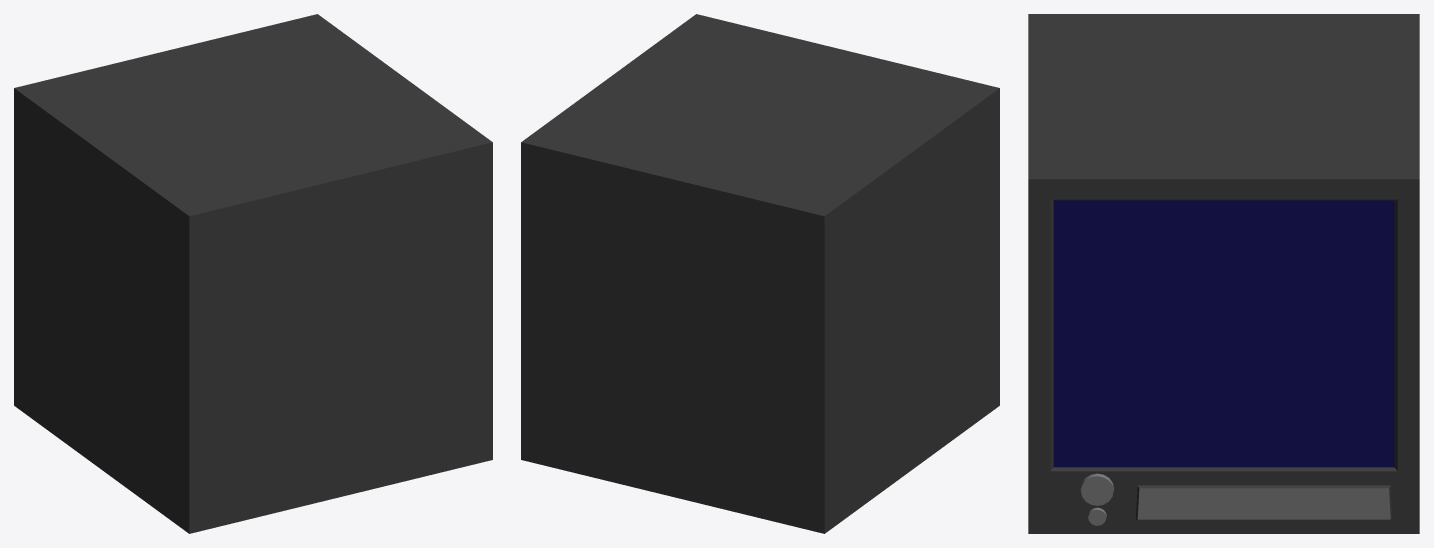
The model's file is tele1.fbx.
3 views of the same model, side by side, from view 1: azimuth 30°, elevation 25°; view 2: azimuth 150°, elevation 25°; view 3: azimuth 270°, elevation 25° (orthographic). The views are drawn at different scales.
Visible parts, largest first — view 1: tele1_blocking; view 2: tele1_blocking; view 3: tele1_blocking.
Part boxes in pixels (x1,y1,x2,y2): tele1_blocking: (14, 14, 492, 533); tele1_blocking: (521, 14, 999, 533); tele1_blocking: (1028, 14, 1419, 533).
Bounding box in the file's own units: 151 × 149 × 149.
